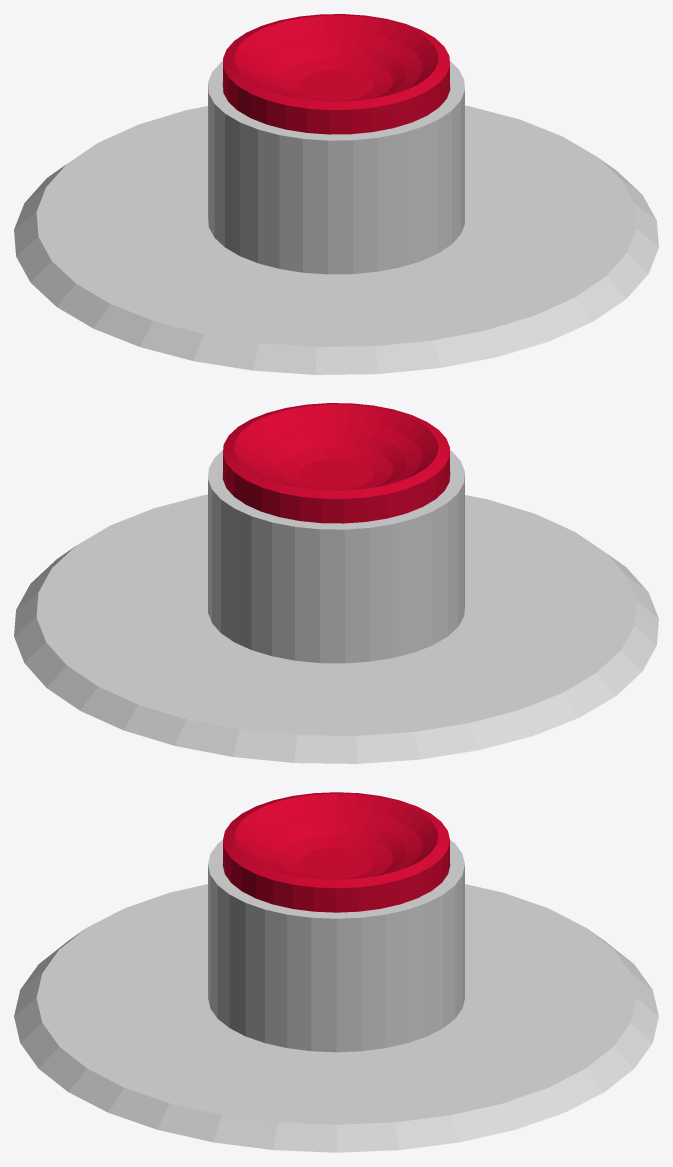
The model's file is props.fbx_b17.fbx.
3 views of the same model, one above another, from view 1: azimuth 30°, elevation 25°; view 2: azimuth 150°, elevation 25°; view 3: azimuth 270°, elevation 25° (orthographic).
Parts seen in each view (by area): view 1: Circle.020, Circle.021; view 2: Circle.020, Circle.021; view 3: Circle.020, Circle.021.
Part boxes in pixels (left/top/right/bottom): Circle.020: left=14, top=61, right=658, bottom=374; Circle.021: left=223, top=14, right=449, bottom=134; Circle.020: left=14, top=450, right=658, bottom=763; Circle.021: left=223, top=403, right=449, bottom=523; Circle.020: left=14, top=840, right=658, bottom=1152; Circle.021: left=223, top=792, right=449, bottom=912.
Size of the model in its own units: 1.08 by 0.3308 by 1.08.
